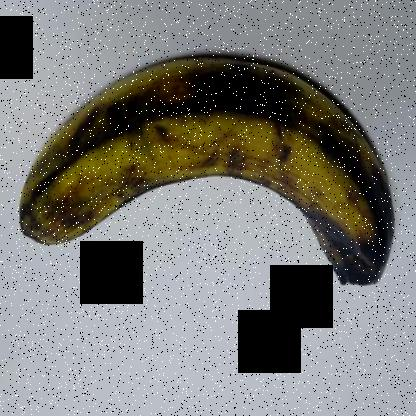overripe: (7, 41, 400, 298)
